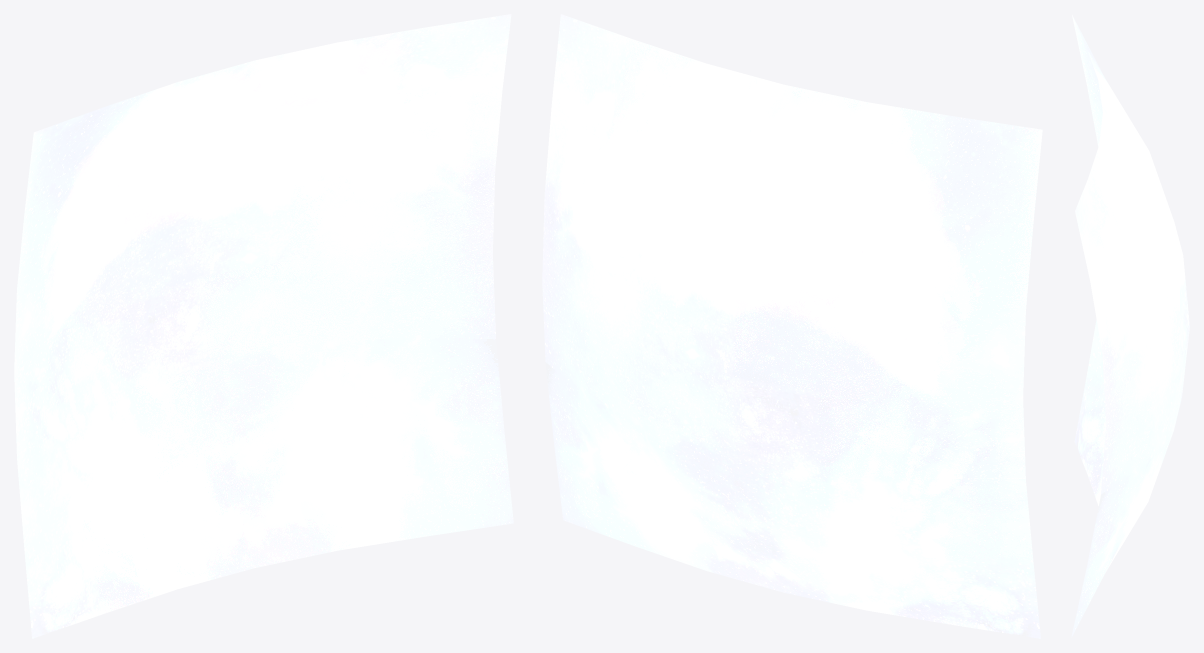
The model's file is bg_solarian3_3db.gltf.
3 renders of one model, left to right at view 1: azimuth 30°, elevation 25°; view 2: azimuth 150°, elevation 25°; view 3: azimuth 270°, elevation 25°, orthographic. The views are drawn at different scales.
Visible parts, largest first — view 1: bg_solarian3.3db; view 2: bg_solarian3.3db; view 3: bg_solarian3.3db.
Part boxes in pixels (box(x1,y1,x2,y2)): bg_solarian3.3db: box(14, 14, 513, 638); bg_solarian3.3db: box(542, 14, 1042, 638); bg_solarian3.3db: box(1071, 15, 1189, 637).
Size of the model in its own units: 73.75 by 74.6 by 18.8.
4 materials, 4 textured.
